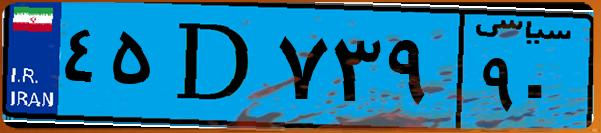0: (525, 38, 570, 115)
3: (330, 28, 385, 110)
4: (57, 26, 110, 100)
5: (110, 28, 158, 98)
7: (270, 28, 330, 110)
9: (385, 28, 445, 110), (475, 38, 525, 113)
D: (158, 12, 270, 120)
